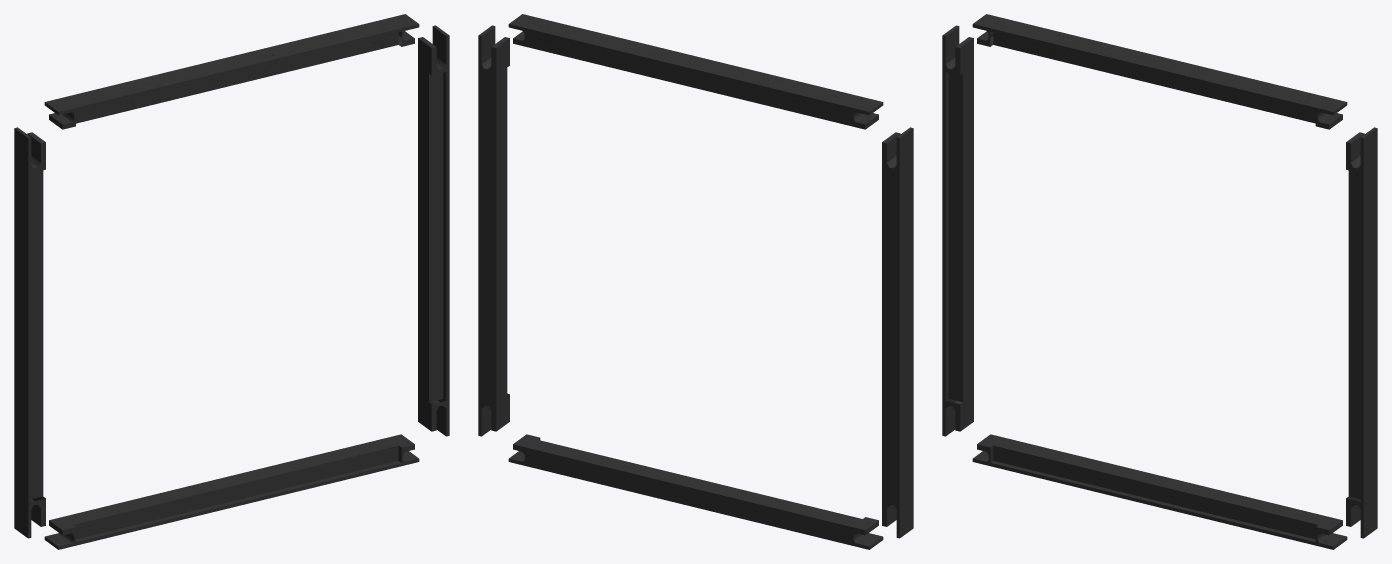
3 renders of one model, left to right at view 1: azimuth 30°, elevation 25°; view 2: azimuth 150°, elevation 25°; view 3: azimuth 330°, elevation 25°, orthographic.
Parts seen in each view (by area): view 1: group_2.230; view 2: group_2.230; view 3: group_2.230.
Part boxes in pixels (x1=…): group_2.230: x1=14, y1=14, x2=449, y2=549; group_2.230: x1=478, y1=14, x2=913, y2=549; group_2.230: x1=942, y1=14, x2=1377, y2=549.
Bounding box in the file's own units: 1.22 × 0.0689 × 1.21.
